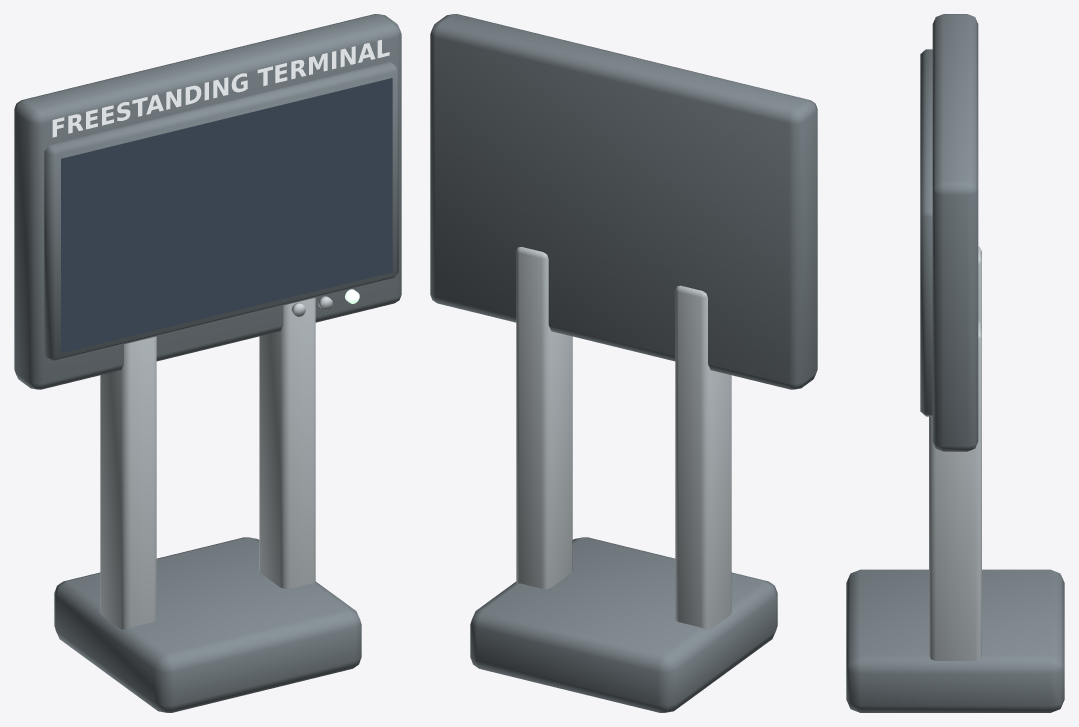
File: freestanding_terminal_enhanced.glb
The picture shows the model from 3 angles, left to right: view 1: azimuth 30°, elevation 25°; view 2: azimuth 150°, elevation 25°; view 3: azimuth 270°, elevation 25°; orthographic projection. The views are drawn at different scales.
Parts seen in each view (by area): view 1: LiveViewSurface_glass, DisplayHousing_frame, Base_frame, Support_steel, LiveViewSurfaceFrame_frame, TypeLabel_white; view 2: DisplayHousing_frame, Support_steel, Base_frame; view 3: Base_frame, DisplayHousing_frame, Support_steel, LiveViewSurfaceFrame_frame.
Part boxes in pixels (x1=…): LiveViewSurface_glass: x1=61, y1=78, x2=392, y2=352; DisplayHousing_frame: x1=14, y1=14, x2=401, y2=389; Base_frame: x1=54, y1=537, x2=361, y2=712; Support_steel: x1=100, y1=297, x2=315, y2=629; LiveViewSurfaceFrame_frame: x1=44, y1=62, x2=398, y2=361; TypeLabel_white: x1=52, y1=39, x2=389, y2=137; DisplayHousing_frame: x1=430, y1=14, x2=817, y2=389; Support_steel: x1=516, y1=247, x2=731, y2=629; Base_frame: x1=470, y1=537, x2=777, y2=712; Base_frame: x1=846, y1=569, x2=1064, y2=712; DisplayHousing_frame: x1=932, y1=14, x2=978, y2=451; Support_steel: x1=929, y1=246, x2=981, y2=660; LiveViewSurfaceFrame_frame: x1=920, y1=49, x2=932, y2=416.
Bounding box in the file's own units: 1.18 × 1.79 × 0.62.
